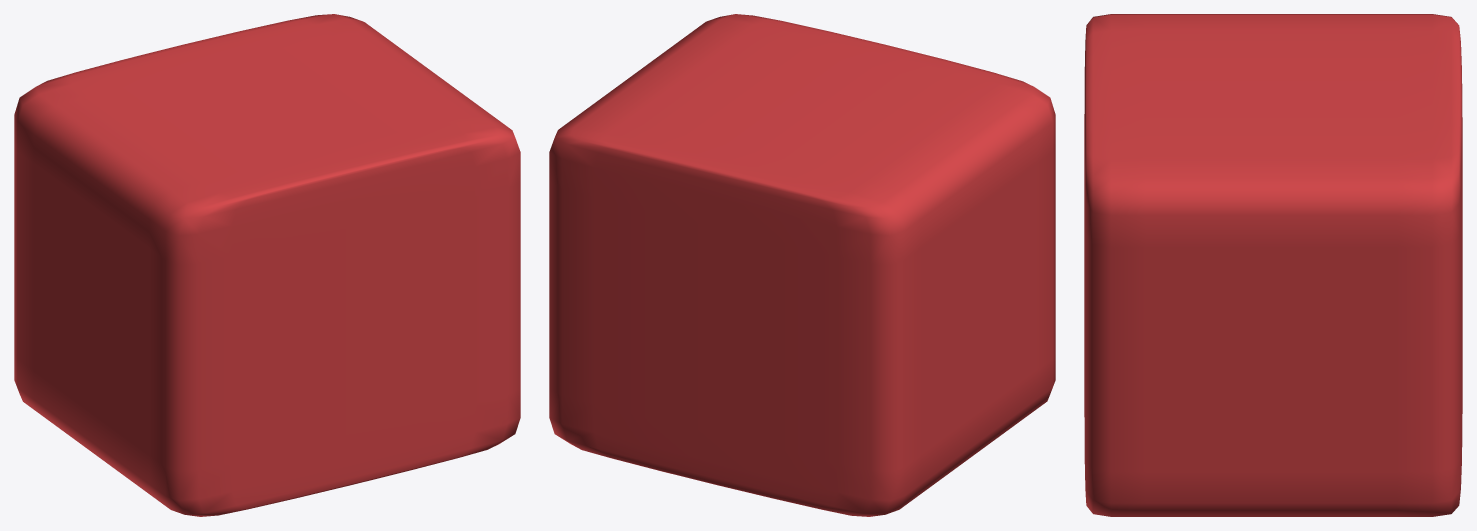
Rendered from pathway_block_mesh.fbx.
3 views of the same model, side by side, from view 1: azimuth 30°, elevation 25°; view 2: azimuth 150°, elevation 25°; view 3: azimuth 270°, elevation 25° (orthographic). The views are drawn at different scales.
Visible parts, largest first — view 1: pathway_block_mesh; view 2: pathway_block_mesh; view 3: pathway_block_mesh.
Boxes of the visible parts, left/top/right/bottom form: pathway_block_mesh: left=14, top=14, right=520, bottom=516; pathway_block_mesh: left=549, top=14, right=1055, bottom=516; pathway_block_mesh: left=1084, top=14, right=1462, bottom=516.
Bounding box in the file's own units: 23356 × 19959 × 19971.
